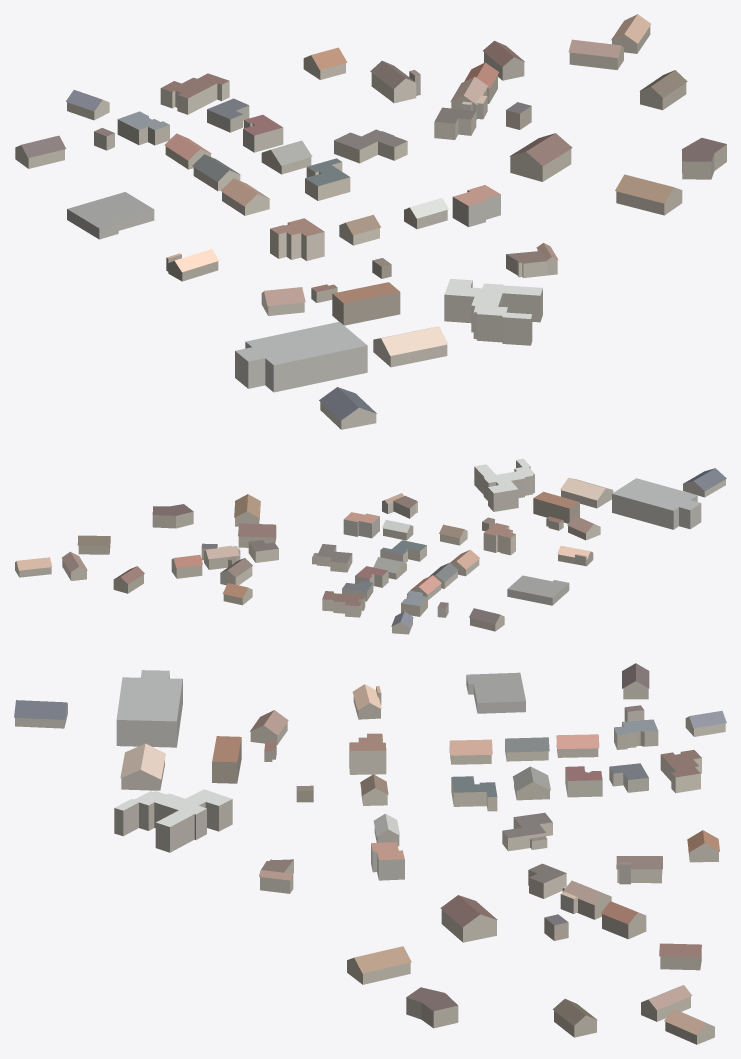
The picture shows the model from 3 angles, top to bottom: view 1: azimuth 30°, elevation 25°; view 2: azimuth 150°, elevation 25°; view 3: azimuth 270°, elevation 25°; orthographic projection. The views are drawn at different scales.
Parts seen in each view (by area): view 1: tuile; view 2: tuile; view 3: tuile.
Part boxes in pixels (x1=…): tuile: x1=15, y1=14, x2=726, y2=429; tuile: x1=15, y1=458, x2=726, y2=634; tuile: x1=14, y1=663, x2=726, y2=1044.
Bounding box in the file's own units: 270 × 32.35 × 251.
